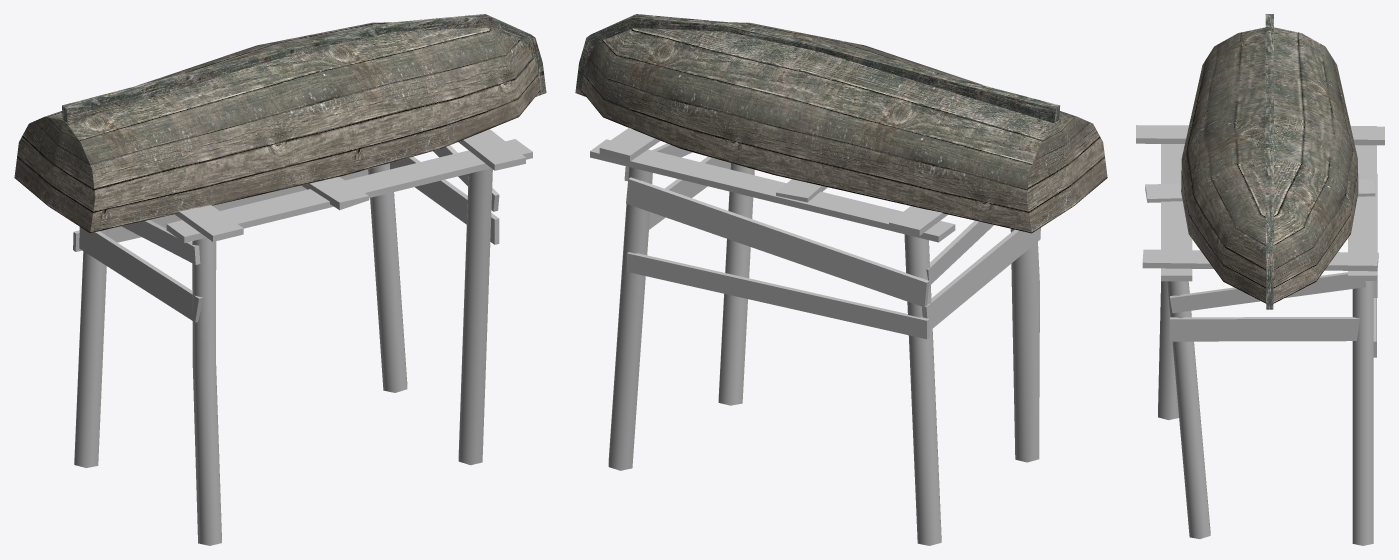
File: Boat2_LOD1.fbx
The picture shows the model from 3 angles, left to right: view 1: azimuth 30°, elevation 25°; view 2: azimuth 150°, elevation 25°; view 3: azimuth 270°, elevation 25°; orthographic projection. The views are drawn at different scales.
Parts seen in each view (by area): view 1: polySurface1120; view 2: polySurface1120; view 3: polySurface1120.
Part boxes in pixels (left/top/right/bottom): polySurface1120: left=14, top=14, right=546, bottom=545; polySurface1120: left=575, top=14, right=1107, bottom=545; polySurface1120: left=1136, top=14, right=1384, bottom=545.
Bounding box in the file's own units: 5.41 × 4.34 × 2.67.
